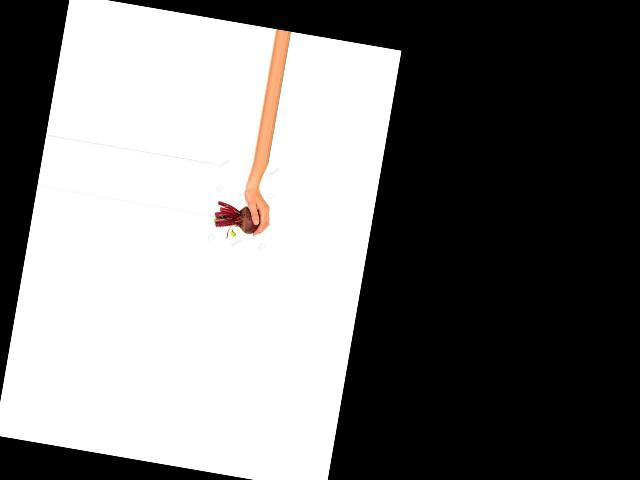beet: (211, 201, 262, 244)
